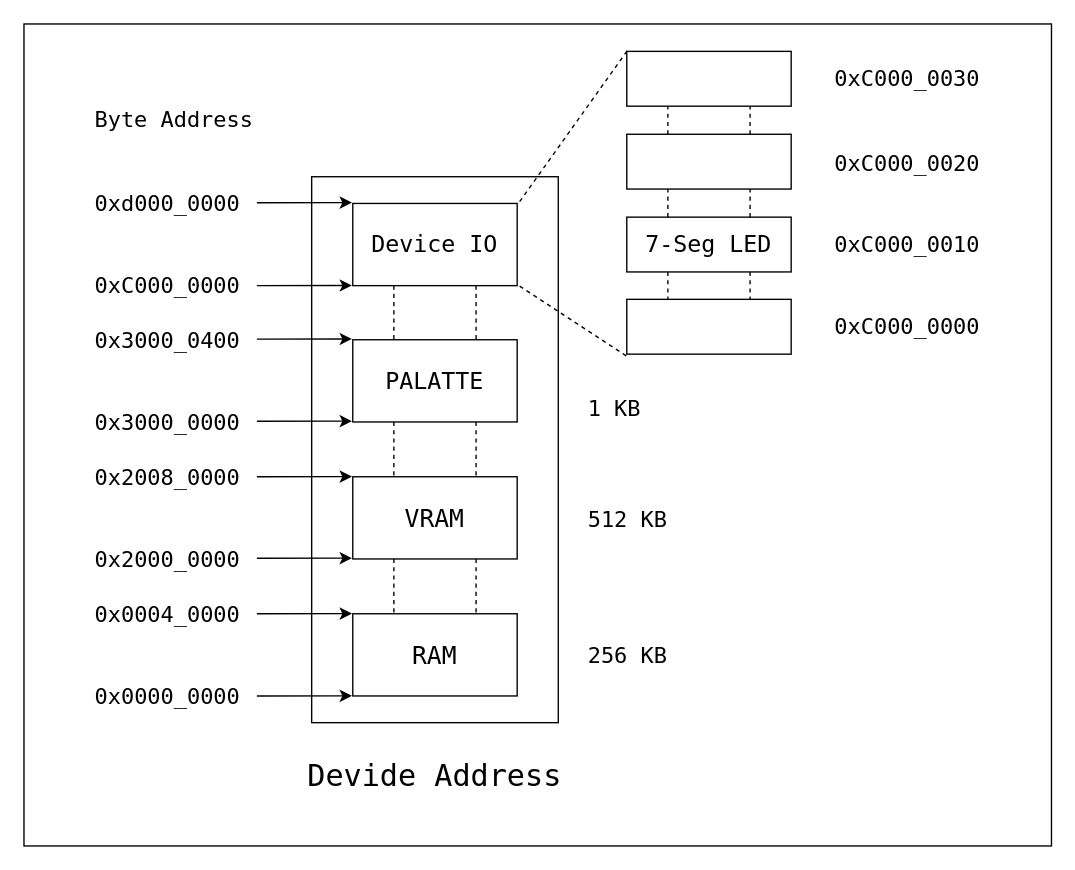
Image size: 1075x870. Some labels were removed from this diagram. The shapes that lost their labels are listed below. From the top down, each one's centre as x and y in pixels, then its label:
point (708, 78): Mat_Btn(r)
point (708, 161): SW (r)
point (708, 326): LED
